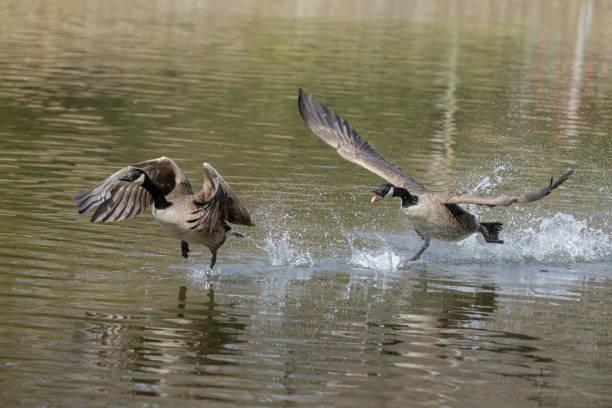Canadian-Goose: (294, 88, 574, 260), (73, 154, 254, 272)
